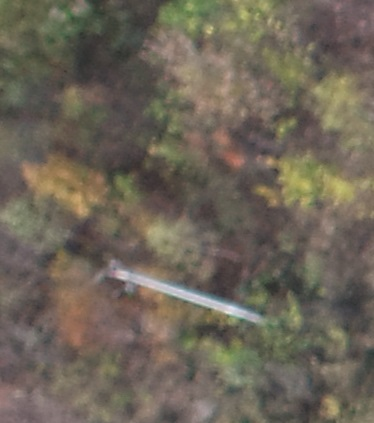opora: (103, 254, 268, 325)
